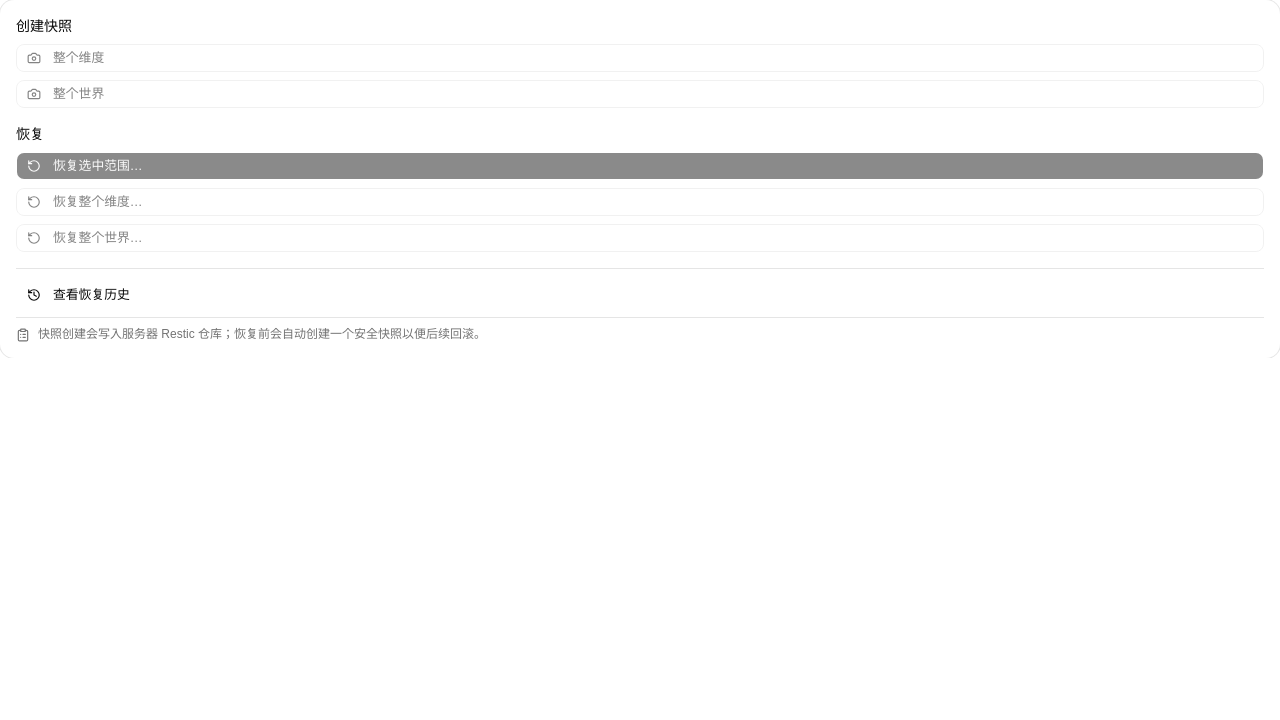
Test: retains the open history and rolls back its interrupted row when delayed map status enables tabs
What coordinates should you click on to do the following:
click the button "查看恢复历史"
I would click on:
 (91, 294)
Its box is [16,281,1264,309].
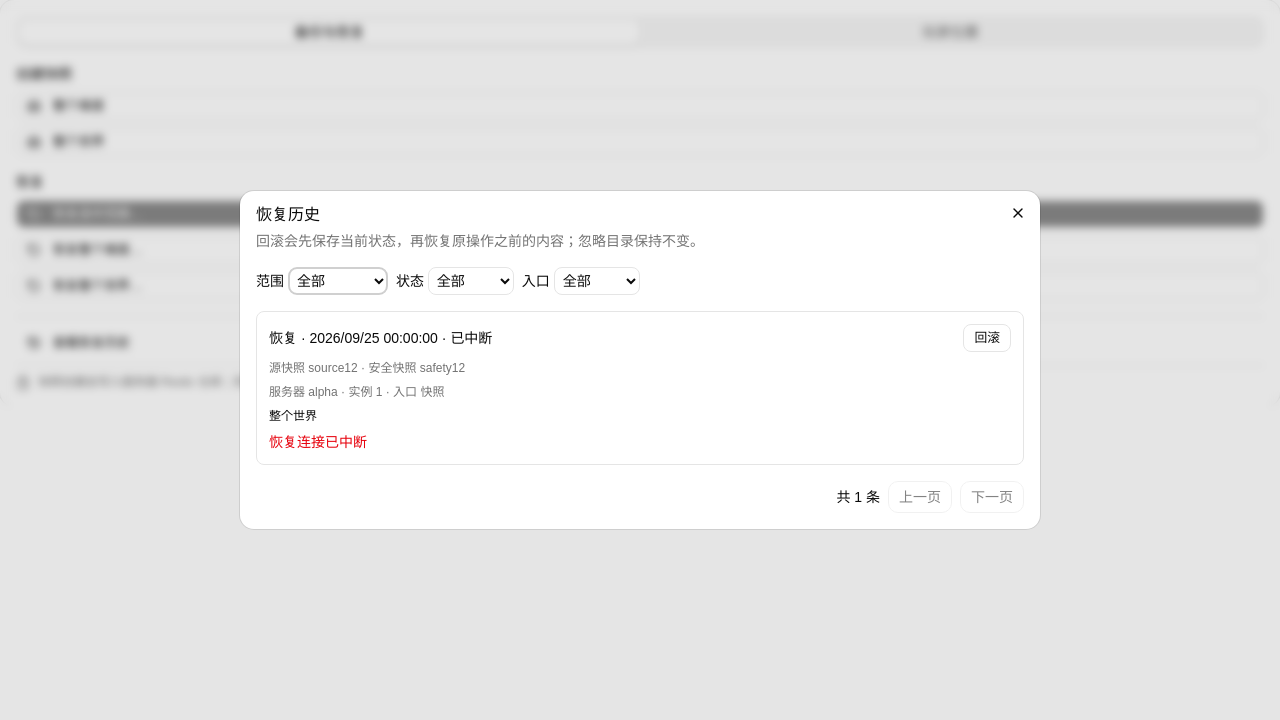
Expected: the text "source12" is shown, [308,361,358,375]
Expected: the text "safety12" is shown, [420,361,465,375]
Expected: the text "已中断" is shown, [450,330,492,346]
What coordinates should you click on to do the following:
click the button "回滚"
I would click on:
 (987, 338)
Its box is [963,324,1011,352].
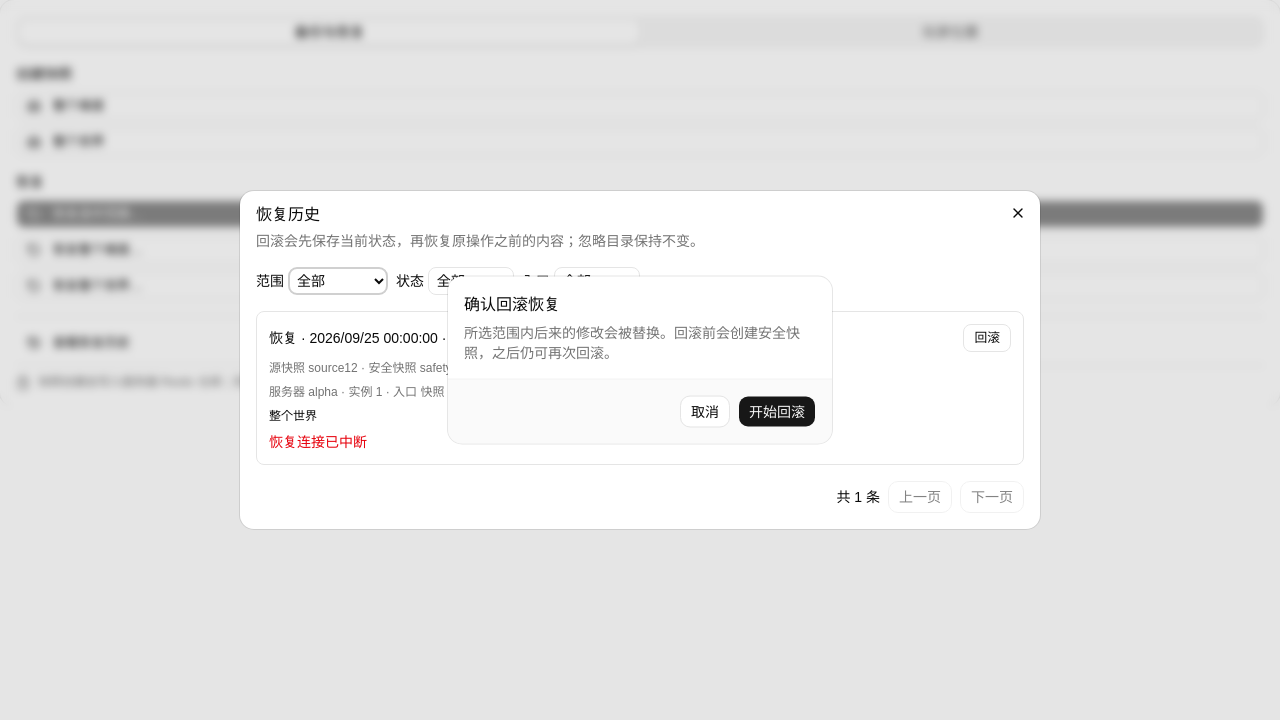
What coordinates should you click on to do the following:
click the button "开始回滚"
I would click on:
 (777, 412)
Its box is [738,396,816,428].
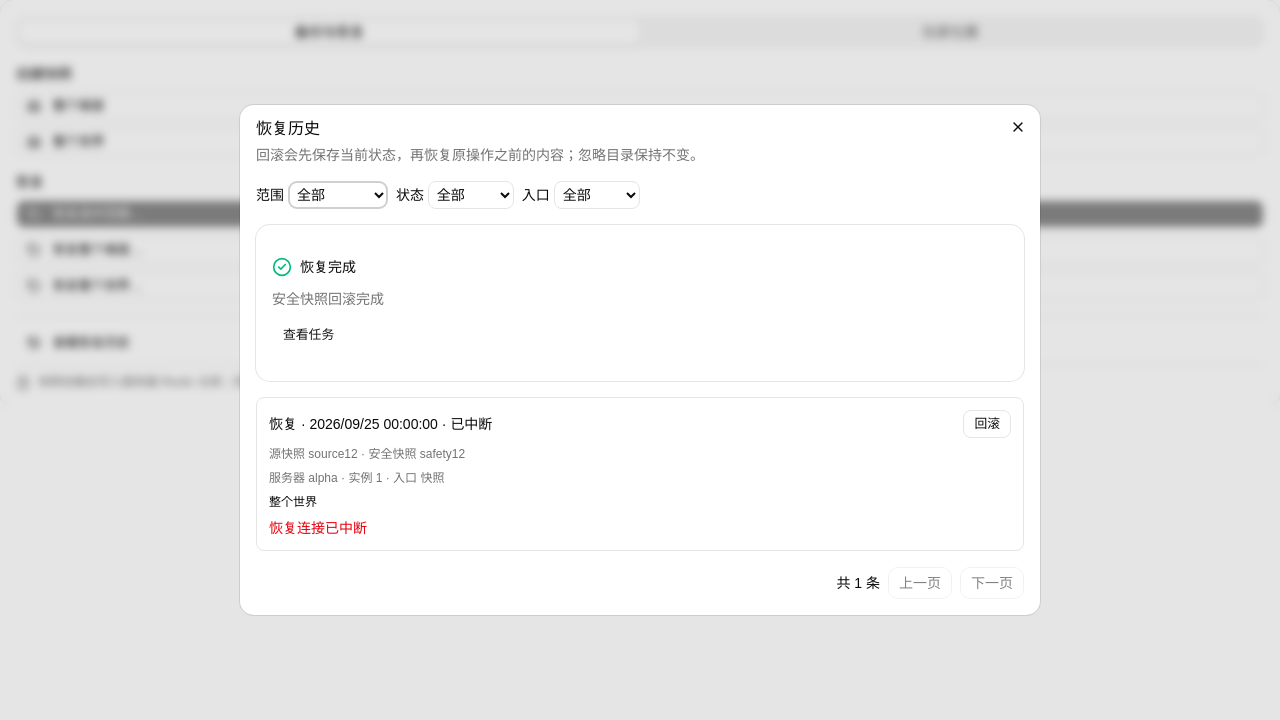
Expected: the text "安全快照回滚完成" is shown, [272,291,384,307]
